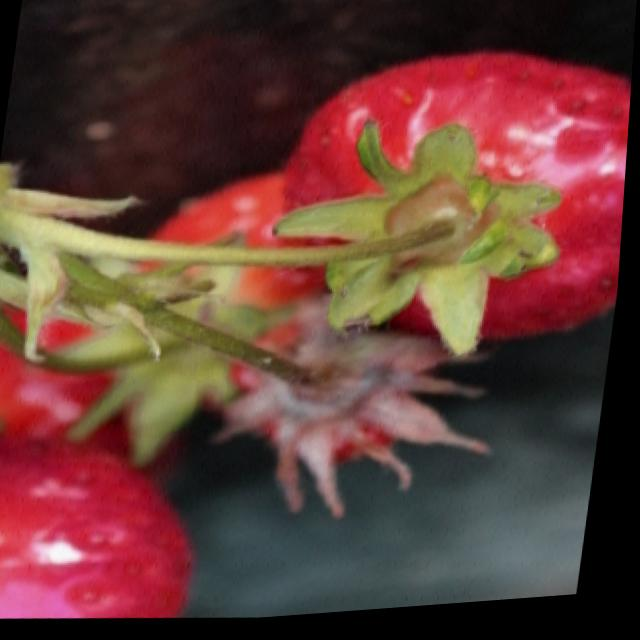Gray Mold: (220, 289, 502, 524)
